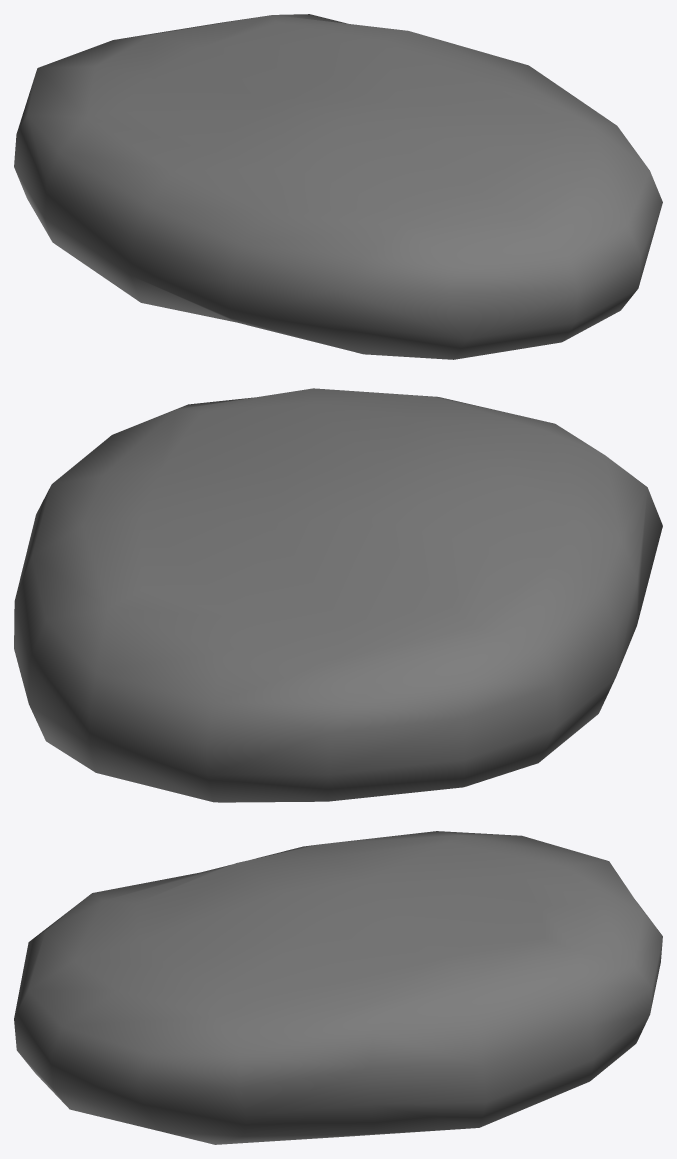
Rendered from roundRock-03_col.fbx.
3 views of the same model, one above another, from view 1: azimuth 30°, elevation 25°; view 2: azimuth 150°, elevation 25°; view 3: azimuth 270°, elevation 25° (orthographic). The views are drawn at different scales.
Visible parts, largest first — view 1: roundRock-03.col; view 2: roundRock-03.col; view 3: roundRock-03.col.
Part boxes in pixels (x1,y1,x2,y2): roundRock-03.col: (14,14,662,359); roundRock-03.col: (14,388,662,802); roundRock-03.col: (14,831,662,1144).
Bounding box in the file's own units: 0.4896 × 0.1592 × 0.5915.
1 material, 1 textured.
